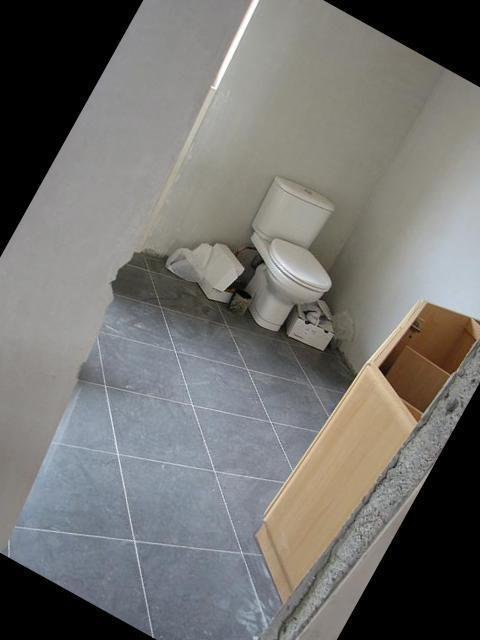Sanitario: (205, 167, 369, 350)
